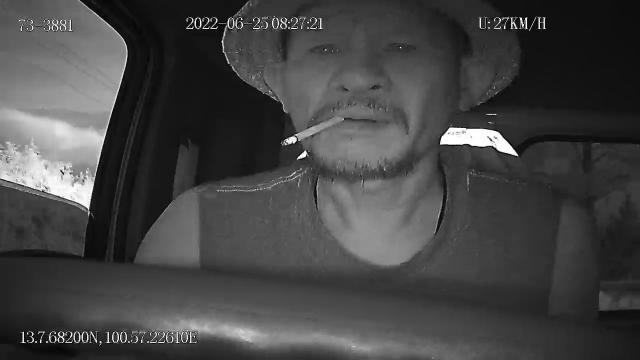SafeDriving: (374, 31, 426, 60), (304, 34, 346, 62)
Smoking: (283, 114, 343, 148)
